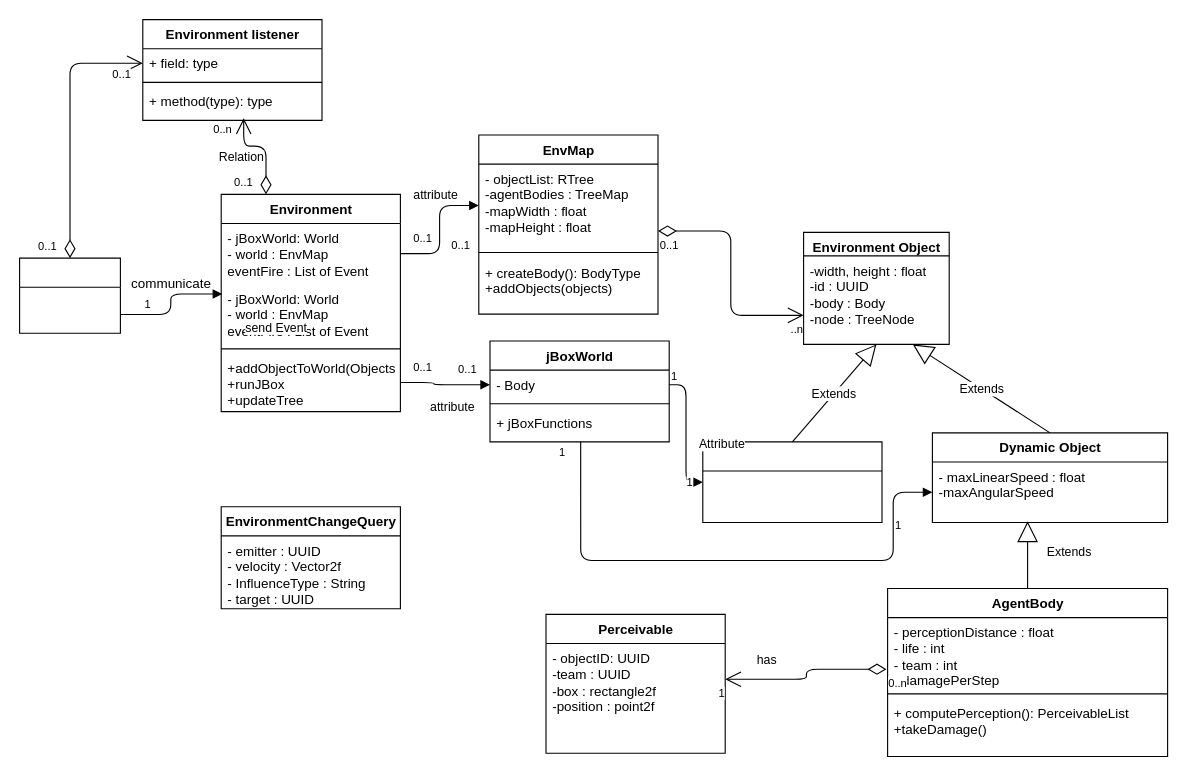
This 1187x780 diagram has some shape labels left out. Here are the shapes that lost their labels. From the top down, the centre of each, then its label:
pixel 69 295: GUI
pixel 792 481: Static Object
